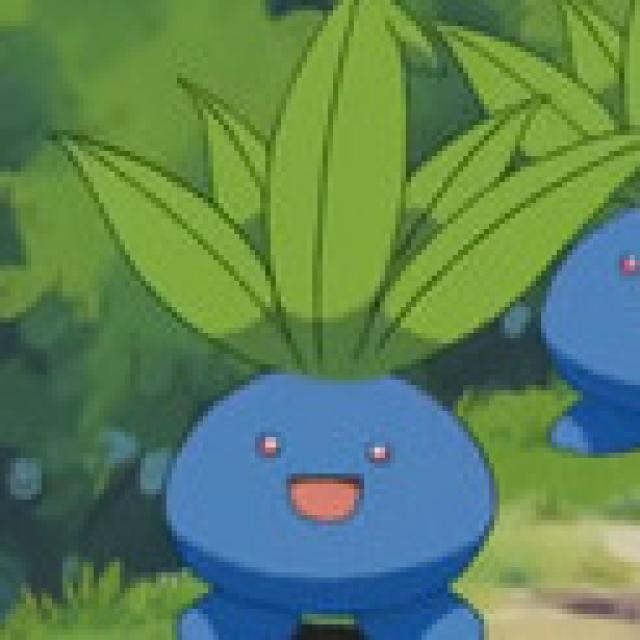Oddish: (115, 90, 544, 640)
